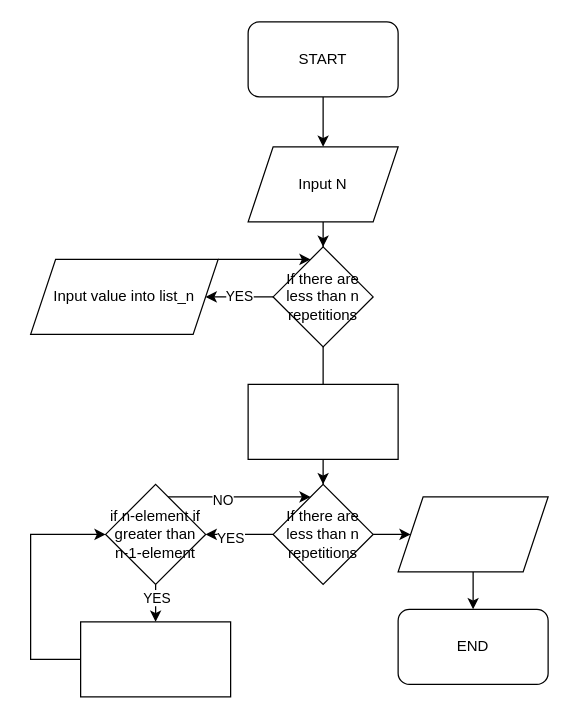
This 570x719 diagram has some shape labels left out. The shapes that lost their labels are listed below. From the top down, each one's centre as x and y in pixels, then its label:
pixel 322 421: c = 0
pixel 472 534: print c
pixel 155 659: c = c + 1
